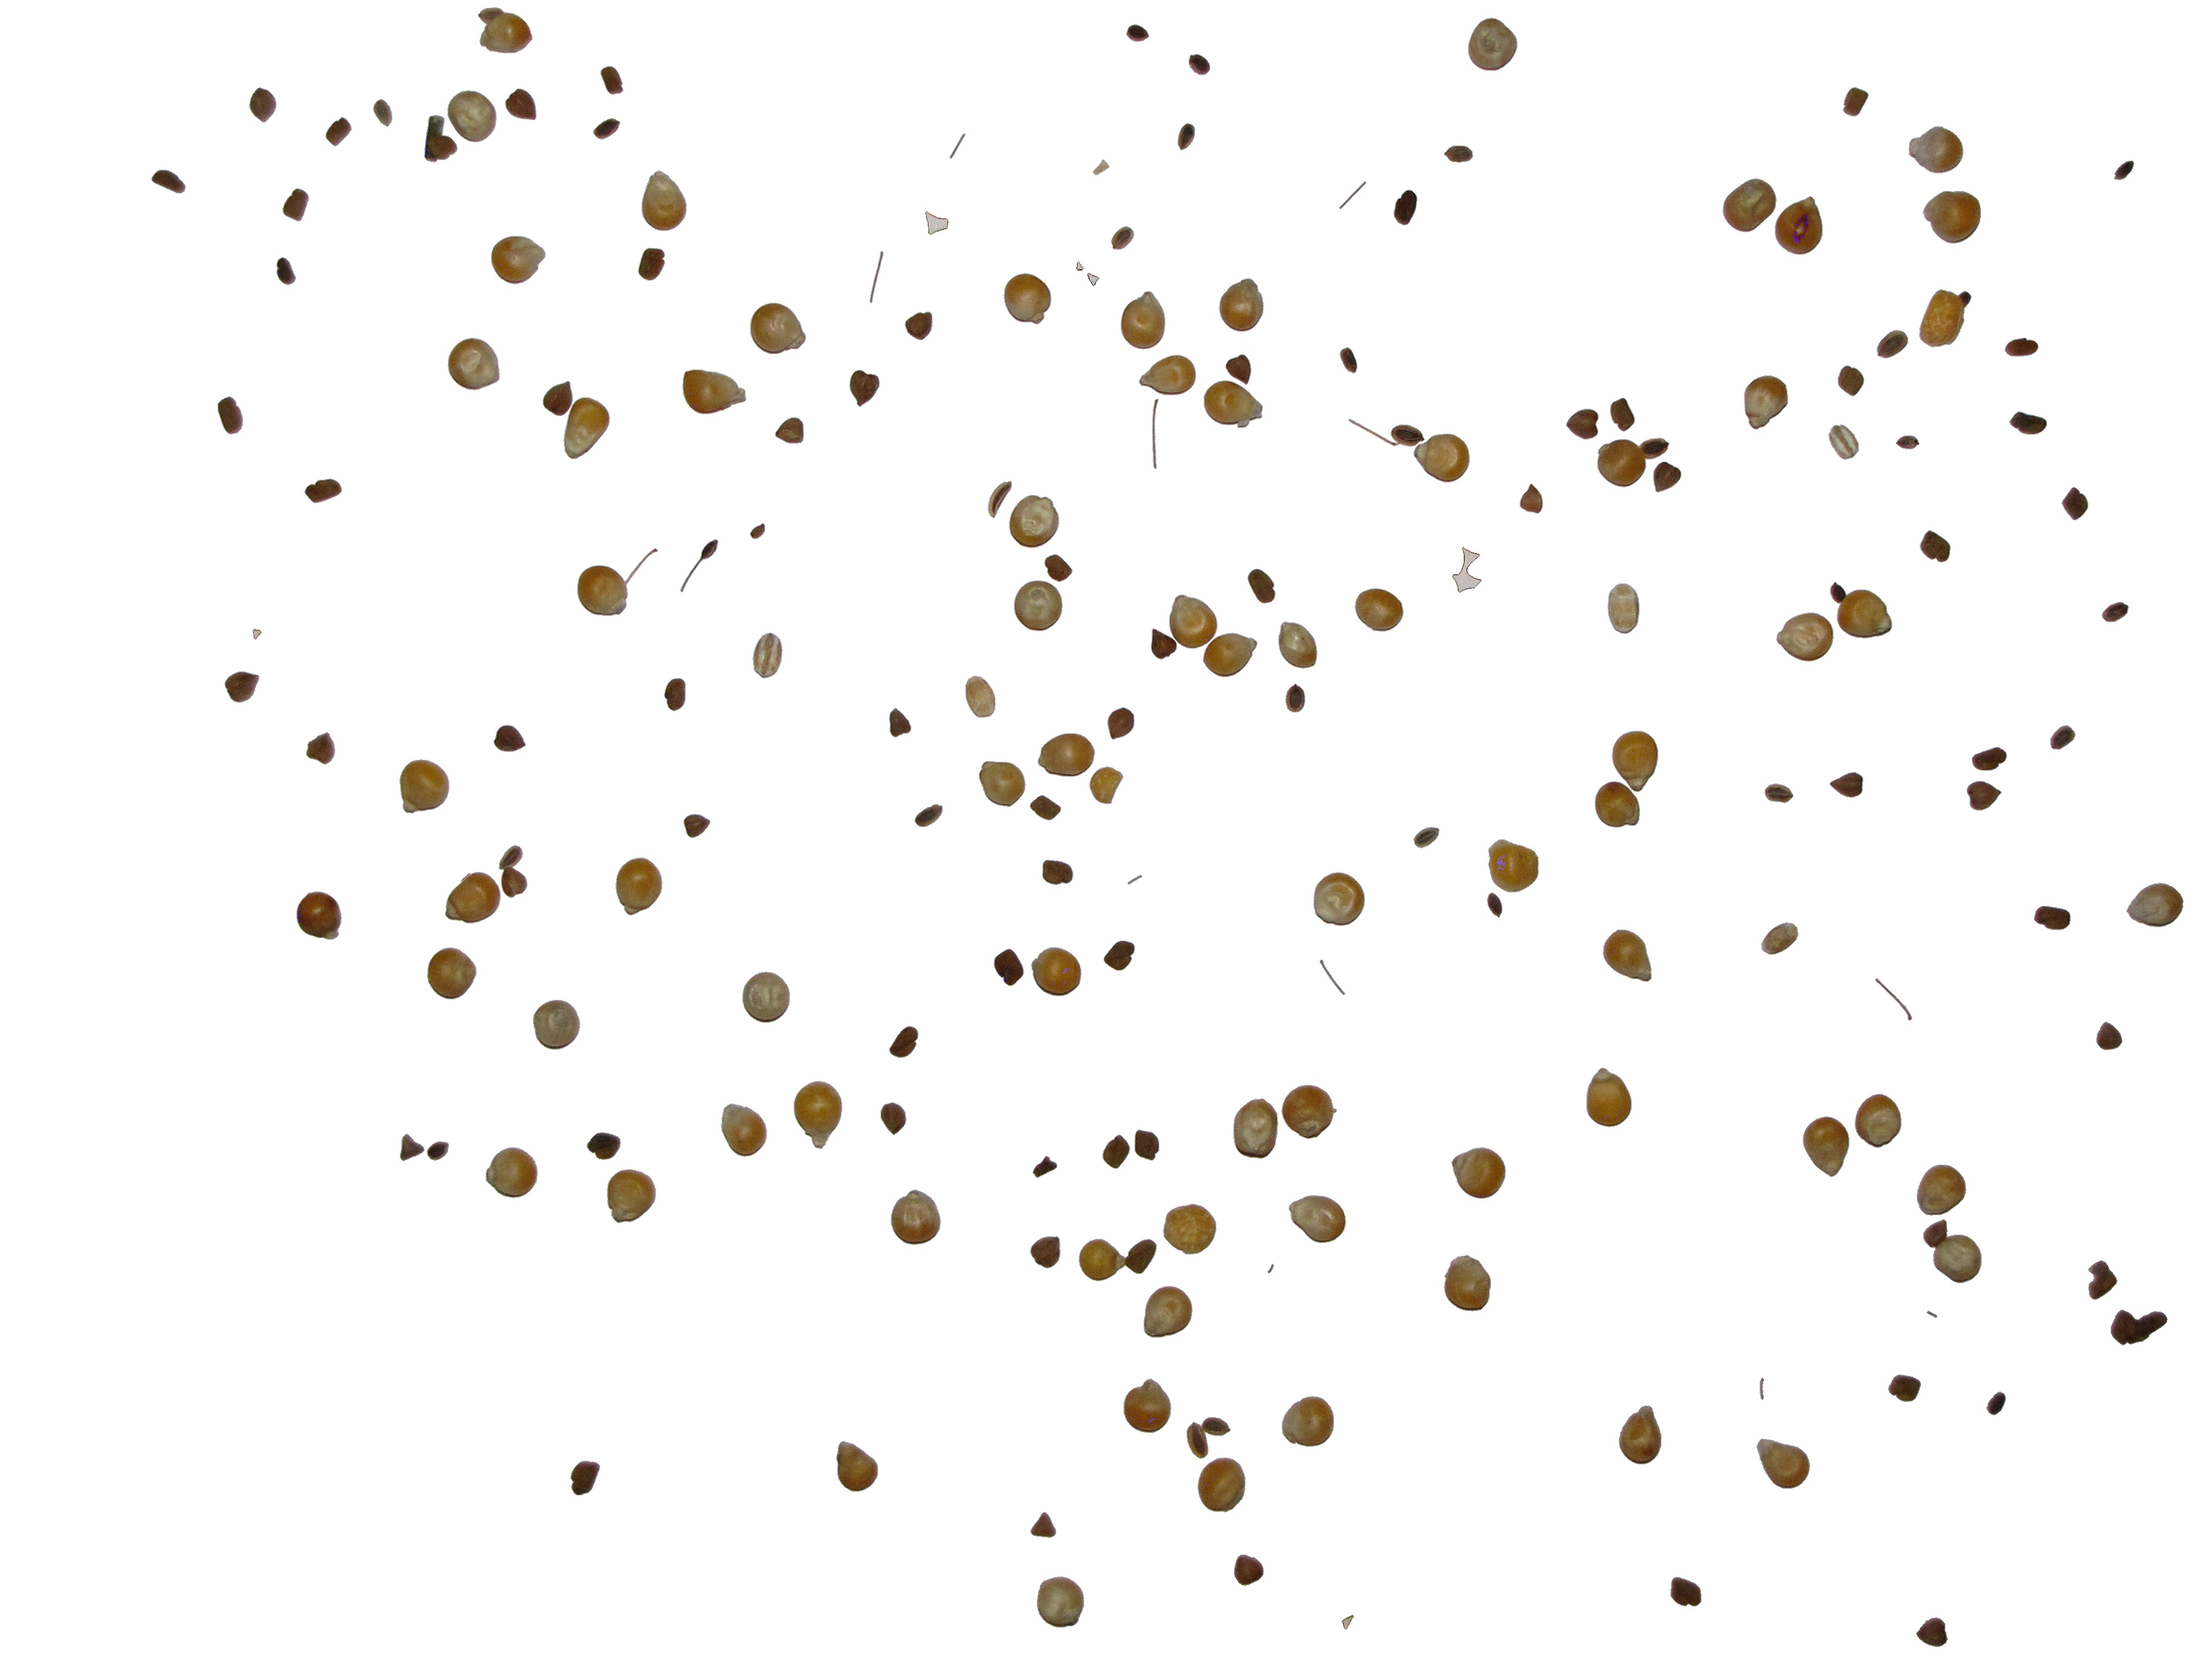buckwheat: (425, 115, 456, 162), (1123, 1239, 1157, 1274), (2088, 1260, 2116, 1300), (2111, 1310, 2144, 1342), (995, 950, 1024, 985), (850, 371, 880, 406), (225, 673, 260, 702), (505, 89, 536, 120), (1921, 530, 1951, 563), (1566, 410, 1599, 439), (543, 382, 573, 415), (1103, 1134, 1130, 1169), (1966, 782, 2001, 810), (1670, 1577, 1702, 1607), (1031, 1237, 1061, 1269), (1247, 570, 1275, 603), (571, 1462, 599, 1495), (247, 87, 273, 122), (500, 863, 526, 897), (218, 397, 242, 434), (1104, 941, 1134, 971), (890, 1026, 918, 1058), (1916, 1619, 1947, 1647), (307, 732, 334, 763), (1235, 1554, 1263, 1586), (1888, 1375, 1921, 1401), (639, 247, 665, 281), (587, 1133, 620, 1159), (1393, 190, 1418, 225), (2010, 411, 2047, 434), (305, 479, 341, 502), (2034, 906, 2071, 929), (1653, 462, 1681, 491), (2062, 488, 2088, 519), (1831, 772, 1862, 798), (1108, 708, 1134, 739), (284, 186, 308, 220), (152, 171, 186, 193), (1972, 748, 2006, 770), (1045, 554, 1073, 582), (1838, 366, 1864, 396), (1878, 331, 1907, 357), (495, 725, 524, 751), (1611, 399, 1635, 430), (881, 1103, 906, 1134), (1042, 861, 1073, 885), (1188, 1422, 1209, 1459), (326, 118, 352, 146), (1843, 87, 1869, 115), (906, 312, 932, 340), (1226, 356, 1251, 385), (1151, 629, 1176, 659), (1029, 796, 1061, 819), (1392, 425, 1425, 446), (775, 418, 803, 443), (1136, 1131, 1158, 1161), (685, 814, 711, 838), (2097, 1023, 2121, 1049), (665, 678, 685, 711), (601, 66, 624, 94), (1521, 484, 1543, 512), (890, 708, 911, 737), (1031, 1513, 1055, 1537), (2050, 725, 2074, 749), (401, 1134, 423, 1161), (914, 805, 942, 826), (2005, 338, 2038, 356), (1764, 784, 1792, 803), (1285, 683, 1305, 711), (1111, 227, 1134, 249), (1033, 1157, 1057, 1178), (373, 99, 392, 125), (277, 258, 296, 284), (2102, 603, 2128, 622), (594, 118, 613, 143), (1414, 828, 1439, 847), (1444, 146, 1474, 162), (1339, 347, 1357, 373), (1177, 124, 1195, 150), (1190, 54, 1211, 75), (427, 1141, 449, 1161), (1987, 1392, 2005, 1415), (700, 540, 718, 561), (1127, 24, 1148, 42), (2114, 162, 2134, 179), (1487, 894, 1501, 917), (1897, 436, 1919, 448)
dill: (1350, 418, 1399, 446), (1453, 547, 1480, 592), (1320, 960, 1345, 995), (1339, 181, 1366, 209), (681, 559, 702, 592), (871, 251, 883, 303), (1893, 995, 1912, 1019), (1153, 399, 1158, 469), (951, 134, 965, 159), (1876, 979, 1895, 997), (1761, 1378, 1763, 1399)
mais: (794, 1080, 841, 1148), (1919, 289, 1972, 347), (577, 559, 629, 617), (1923, 192, 1980, 244), (1723, 179, 1777, 232), (1282, 1086, 1336, 1138), (751, 303, 806, 354), (564, 397, 610, 458), (1233, 1098, 1278, 1159), (448, 338, 500, 390), (683, 369, 745, 413), (446, 873, 500, 924), (1414, 434, 1470, 483), (1289, 1195, 1346, 1243), (1775, 197, 1822, 254), (1204, 382, 1263, 427), (1803, 1117, 1848, 1176), (1613, 732, 1658, 791), (1282, 1396, 1334, 1446), (1163, 1204, 1216, 1255), (1453, 1148, 1505, 1199), (1313, 873, 1364, 925), (892, 1190, 941, 1244), (401, 760, 449, 814), (1444, 1255, 1491, 1310), (1777, 613, 1832, 660), (617, 857, 662, 915), (643, 171, 686, 230), (1757, 1439, 1810, 1488), (1468, 17, 1517, 70), (1010, 495, 1059, 547), (1489, 840, 1538, 892), (1843, 586, 1892, 638), (1123, 1378, 1170, 1432), (491, 237, 545, 284), (1170, 594, 1217, 648), (1198, 1457, 1245, 1511), (1122, 291, 1165, 349), (1587, 1068, 1630, 1126), (1602, 931, 1651, 981), (1918, 1164, 1966, 1215), (427, 948, 475, 999), (448, 91, 496, 141), (1014, 580, 1062, 631), (486, 1148, 536, 1197), (608, 1169, 655, 1222), (1909, 127, 1963, 173), (2127, 884, 2182, 927), (1620, 1406, 1662, 1464), (1031, 948, 1082, 995), (742, 972, 789, 1023), (1144, 1286, 1191, 1337), (1219, 279, 1264, 331), (721, 1105, 766, 1157), (1855, 1094, 1900, 1147), (1204, 633, 1258, 676), (1038, 734, 1094, 775), (1139, 356, 1197, 396), (533, 1000, 580, 1049), (1005, 274, 1050, 324), (1038, 1577, 1083, 1628), (479, 9, 531, 52), (1745, 376, 1787, 429), (979, 762, 1026, 807), (1597, 437, 1641, 486), (836, 1441, 878, 1492), (298, 892, 341, 939), (1355, 589, 1404, 631), (1939, 1234, 1980, 1283), (1595, 782, 1639, 828), (1080, 1239, 1125, 1281), (1278, 622, 1317, 667), (462, 873, 472, 882)
other: (1608, 582, 1639, 633), (752, 633, 782, 678), (965, 676, 996, 718), (1090, 767, 1123, 803), (1761, 924, 1797, 955), (1829, 425, 1858, 458), (988, 481, 1012, 518), (927, 211, 948, 235), (1094, 160, 1109, 174), (751, 525, 765, 538), (1343, 1615, 1353, 1629), (1089, 274, 1099, 286), (1129, 875, 1143, 884), (254, 629, 261, 640), (1076, 261, 1083, 270), (1926, 1312, 1937, 1317), (1268, 1263, 1273, 1272)
